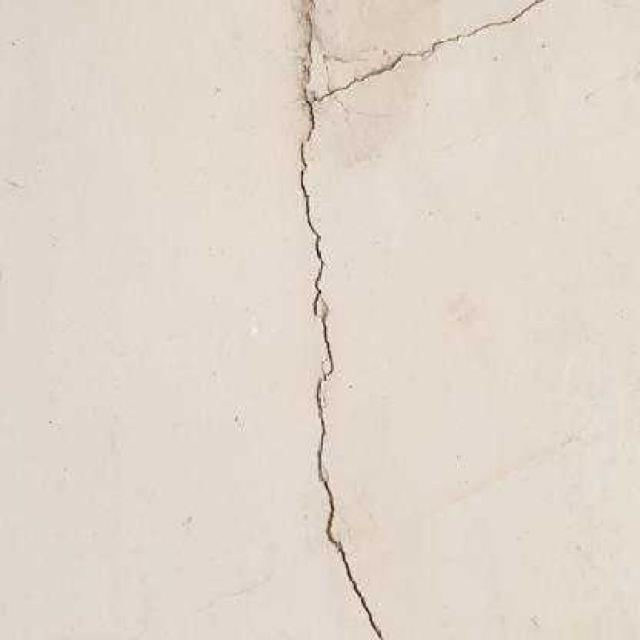D00: (300, 0, 545, 640)
